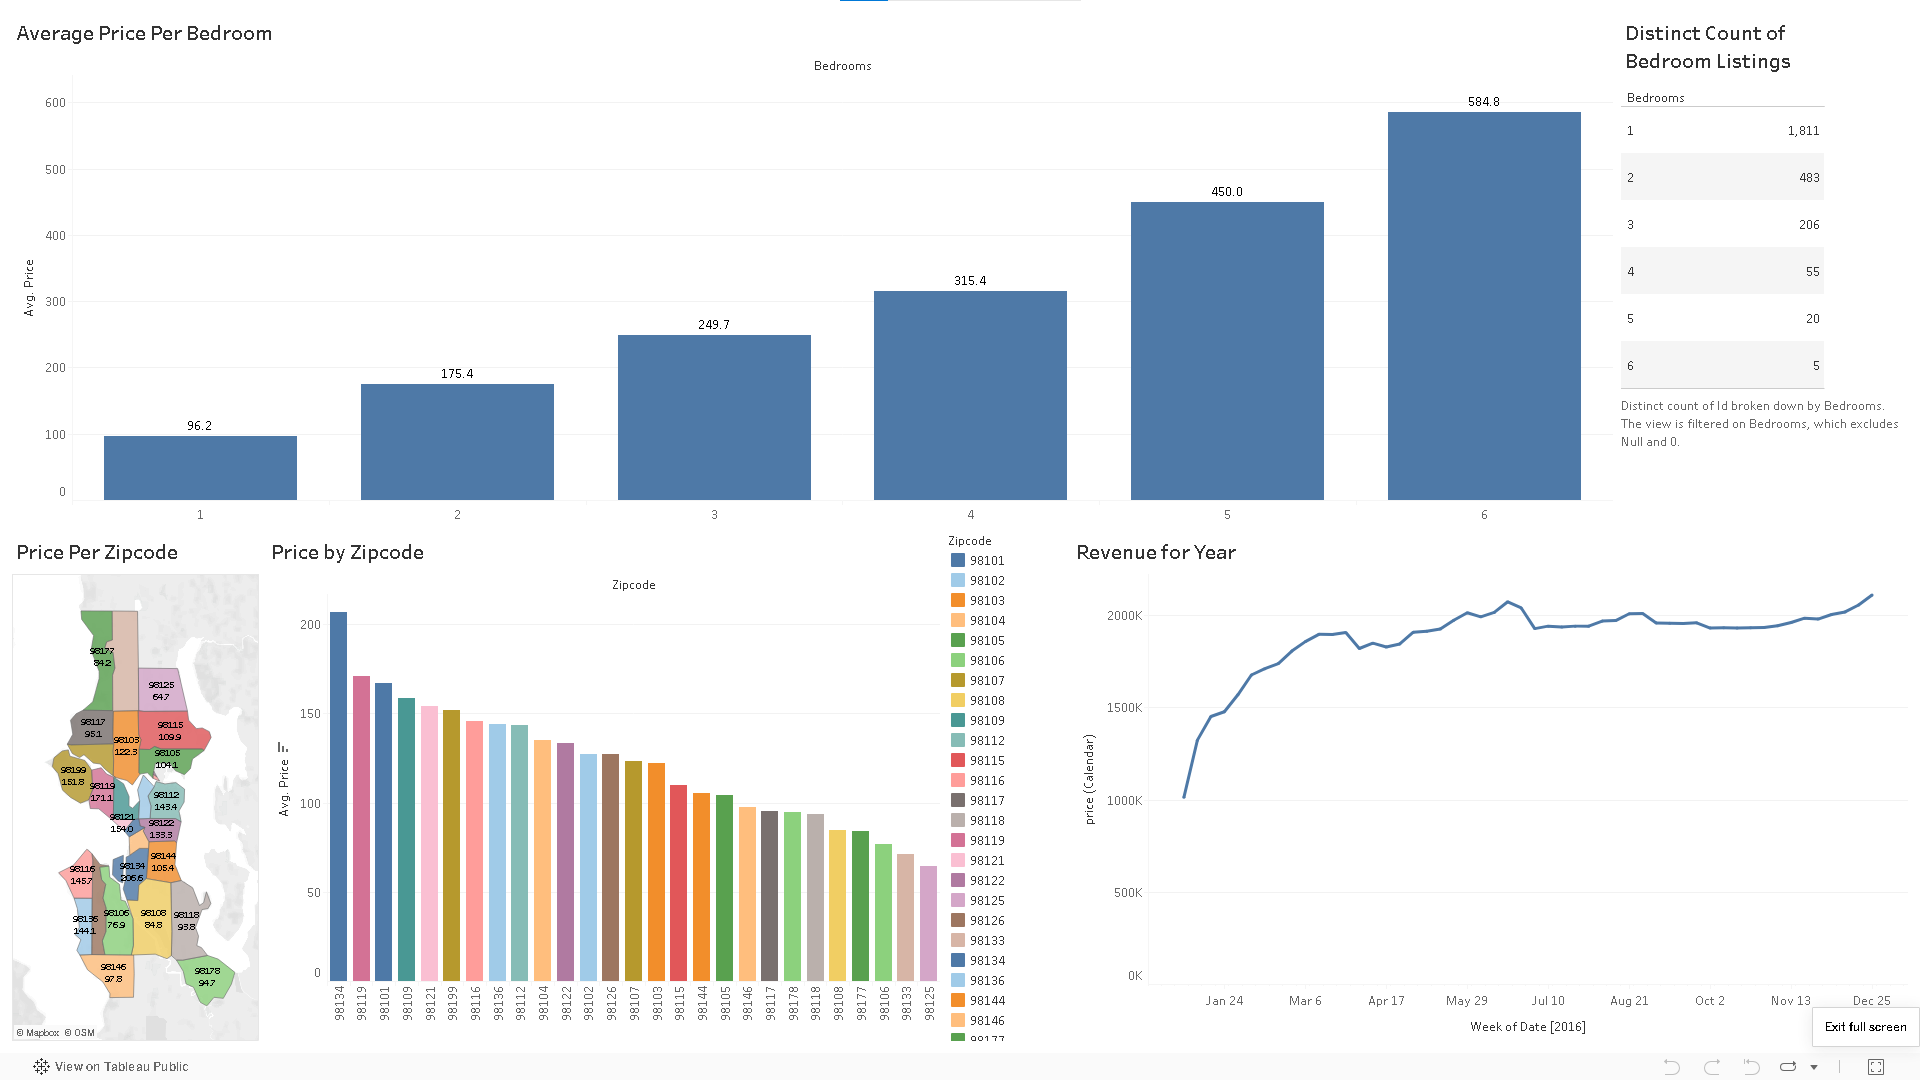

Layout of this report page (visuals, bound fields, positions):
{"tool":"tableau","page":{"name":"Dashboard 1","canvas":[1000,1000],"units":"permille","ordinal":0},"visuals":[{"type":"worksheet","title":"Sheet 4","mark":"Automatic","rows":["price"],"cols":["bedrooms"],"box":[8.7,9.4,830.2,490.6]},{"type":"worksheet","title":"Sheet 5","mark":"Automatic","rows":["bedrooms"],"box":[838.9,9.4,152.5,490.6]},{"type":"worksheet","title":"Sheet 2","mark":"Multipolygon","box":[8.7,500,131.8,490.6]},{"type":"worksheet","title":"Sheet 1","mark":"Automatic","rows":["price"],"cols":["zipcode"],"box":[140.4,500,351.6,490.6]},{"type":"legend","title":"Sheet 1","param":"[federated.13z3k8d0bdjrq314dm8i90usvk0z].[none:zipcode:ok]","box":[492,500,63.8,490.6]},{"type":"worksheet","title":"Sheet 3","mark":"Automatic","rows":["price (Calendar)"],"cols":["date"],"box":[555.8,500,435.5,490.6]}]}

Visuals, with their boxes on the dashboard's canvas, which has no fixed pixel size, in thousandths of its width and height (x1, y1, x2, y2). These are canvas units, not pixel positions in the 1920x1080 screenshot, which may show the page scaled, cropped or inside an application window:
"Sheet 4" worksheet: bbox(9, 9, 839, 500)
"Sheet 5" worksheet: bbox(839, 9, 991, 500)
"Sheet 2" worksheet (Multipolygon marks): bbox(9, 500, 140, 991)
"Sheet 1" worksheet: bbox(140, 500, 492, 991)
"Sheet 1" legend: bbox(492, 500, 556, 991)
"Sheet 3" worksheet: bbox(556, 500, 991, 991)
